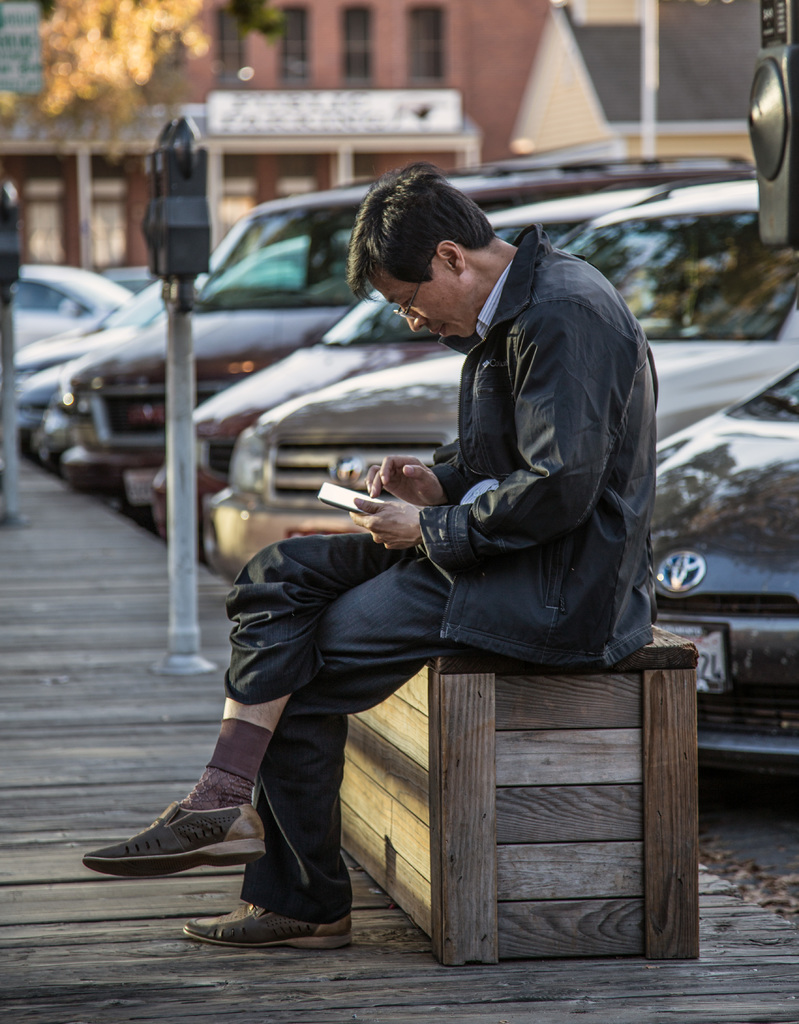Car: (7, 144, 798, 783)
